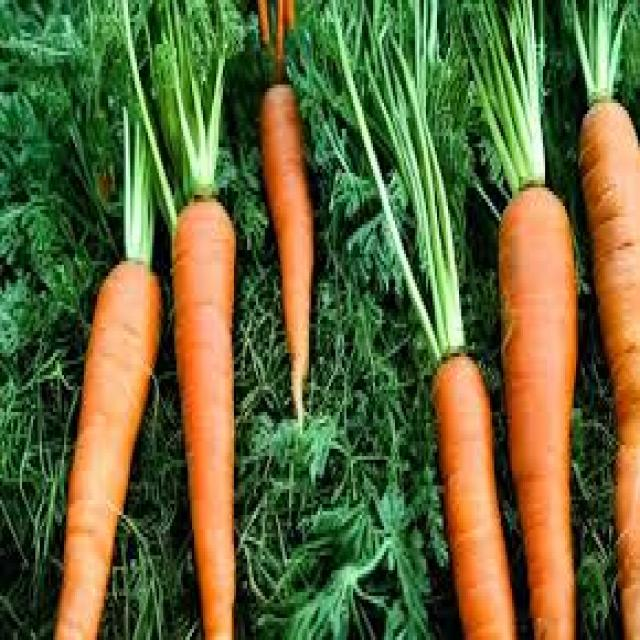Carrot: (168, 202, 240, 640)
